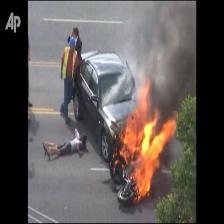fire: (124, 109, 167, 198)
smoke: (145, 10, 194, 101)
